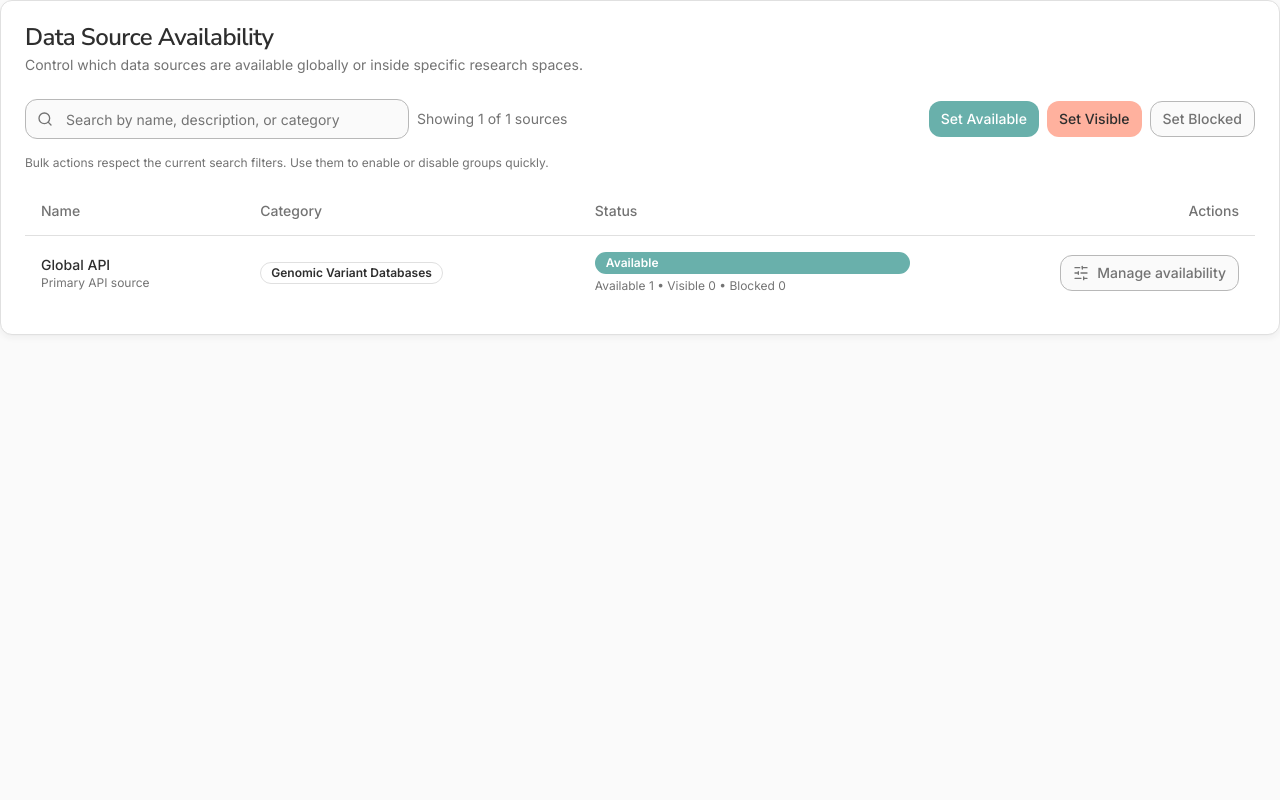
Scenario: DataSourceAvailabilitySection › opens manage dialog when button is clicked
Click the button "Manage availability" at (1150, 272), box [1060,254,1239,290]
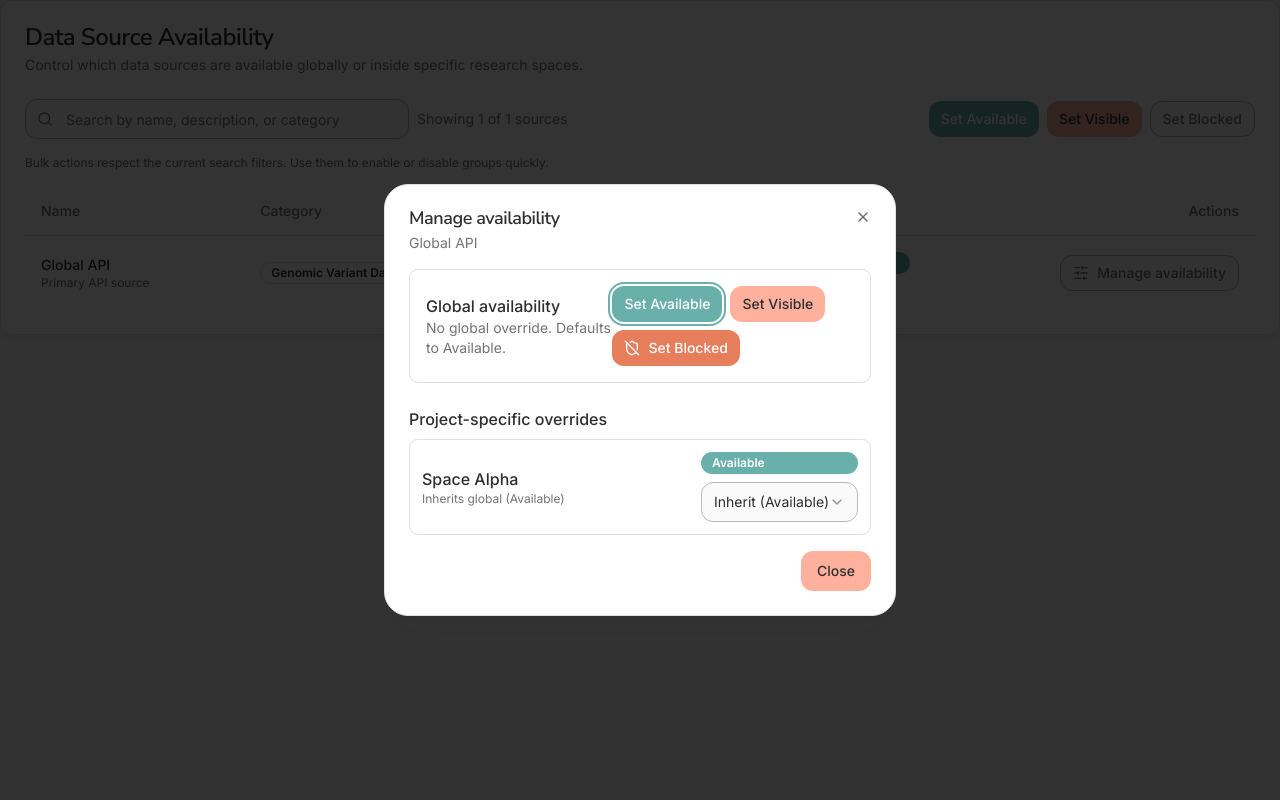
Result: the text "Global availability" is shown at [426,296,560,316]
